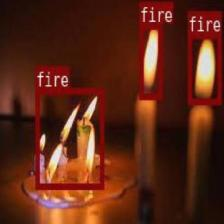fire: (35, 88, 103, 188), (188, 32, 220, 103), (139, 23, 162, 97)
